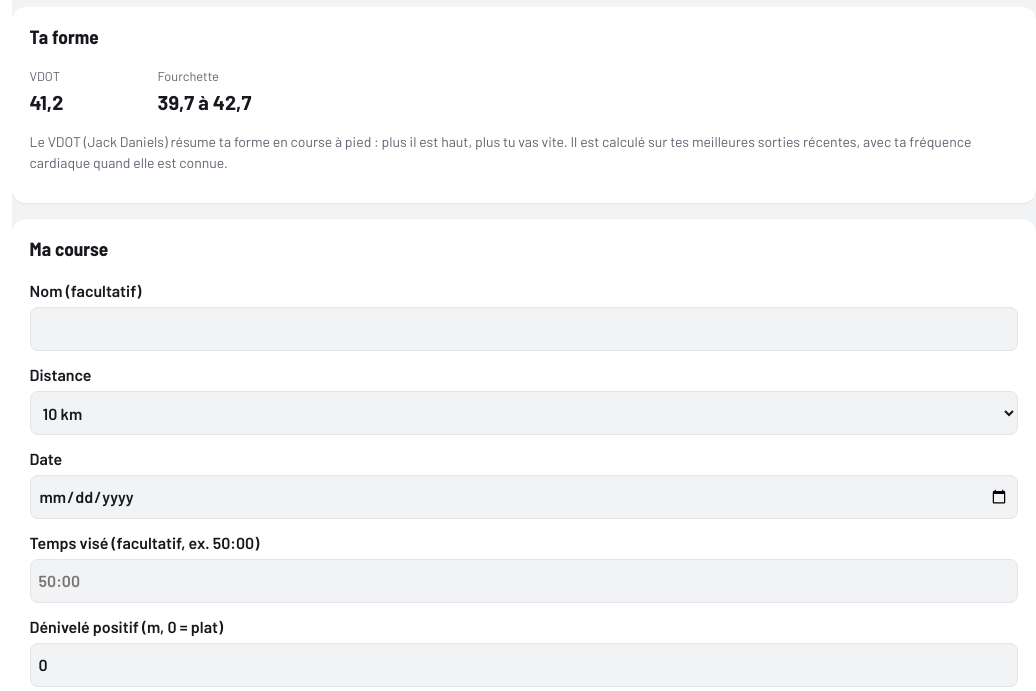
Test: RacePage › refuses a target time it cannot read
Type "2026-12-13" into the date field labelled "Date" at (524, 497), box [30,475,1018,519]
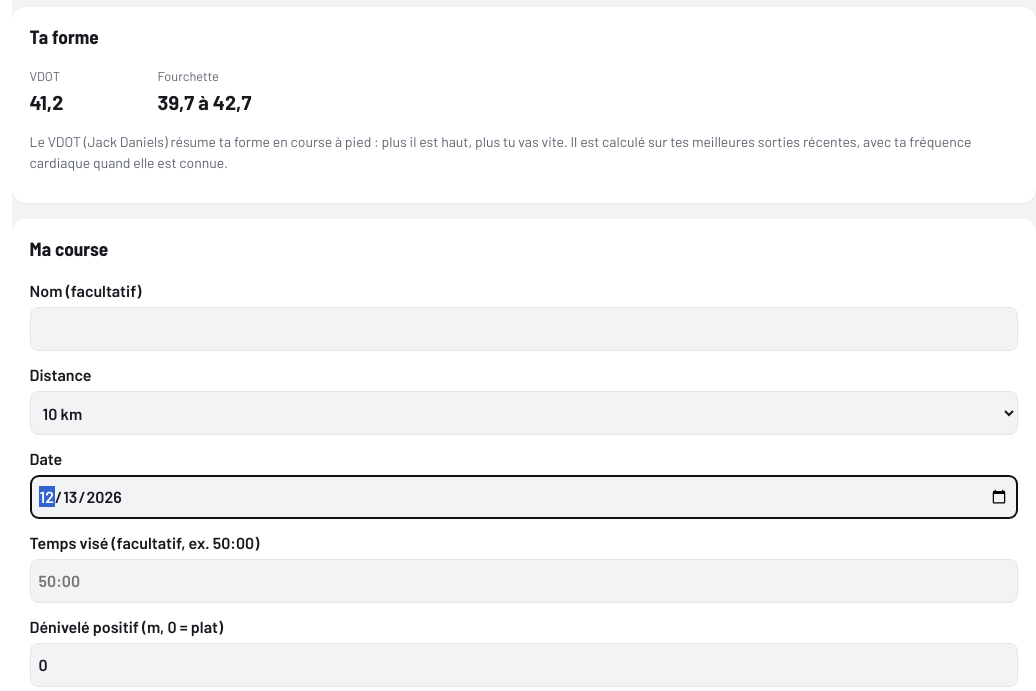
Type "50 minutes" into the field labelled "Temps visé (facultatif, ex. 50:00)" at (524, 581), box [30,559,1018,603]
(page scrolled)
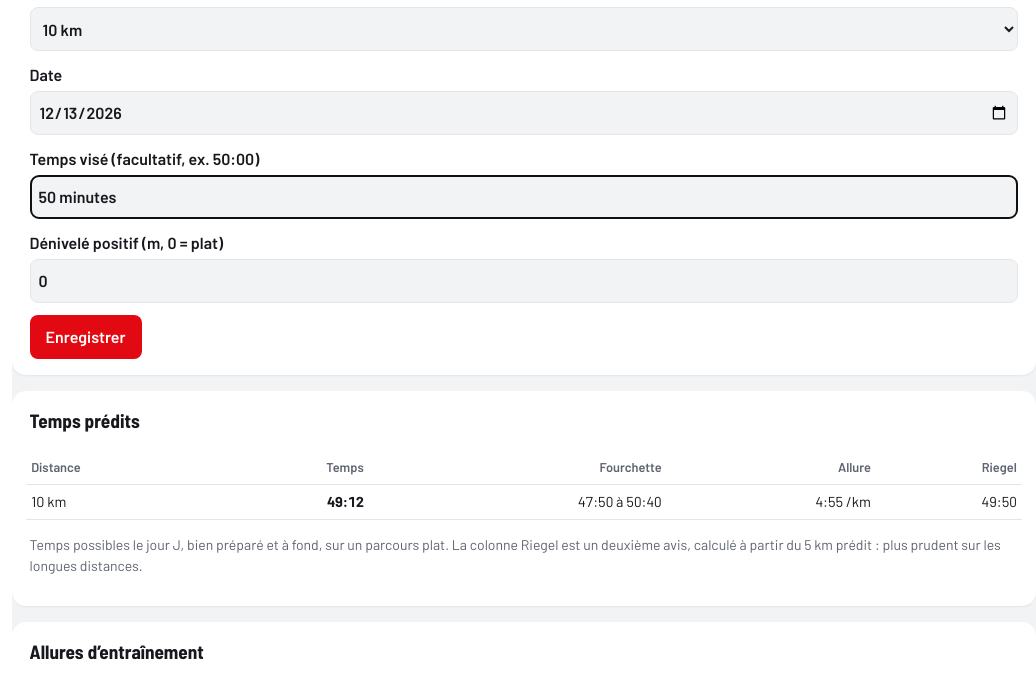
Click the button "Enregistrer" at (86, 337), box [30,315,142,359]
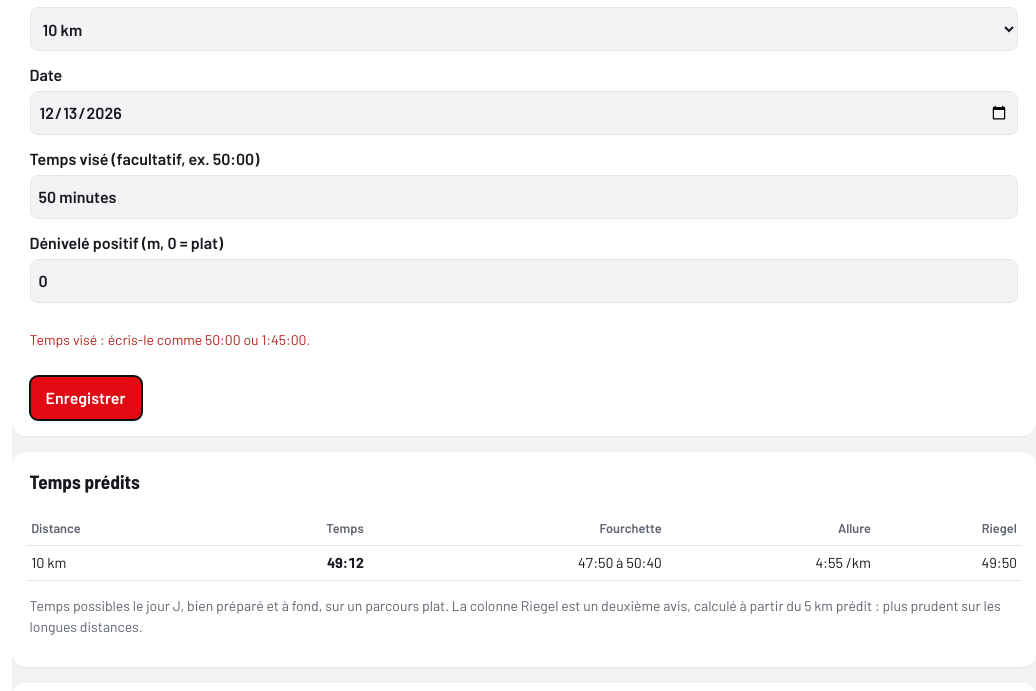
Now the message shows "50:00 ou 1:45:00", box [30,331,310,348]
